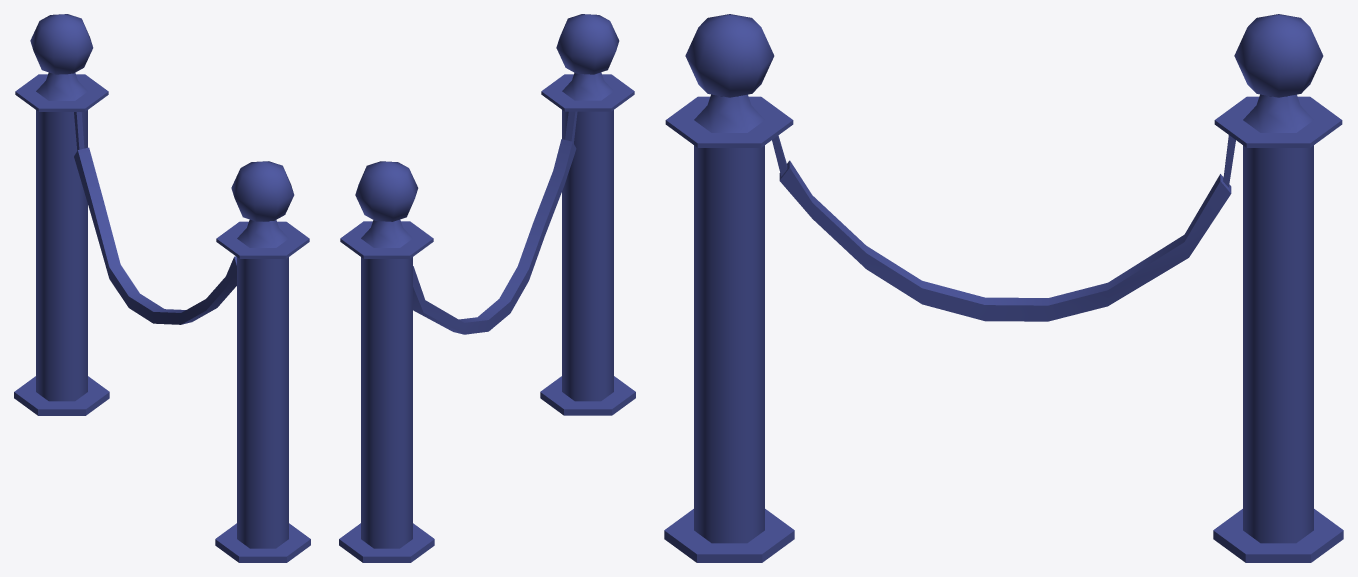
The model's file is SM_Stanchion_01.fbx.
3 renders of one model, left to right at view 1: azimuth 30°, elevation 25°; view 2: azimuth 150°, elevation 25°; view 3: azimuth 270°, elevation 25°, orthographic. The views are drawn at different scales.
Parts seen in each view (by area): view 1: SM_Stanchion_01; view 2: SM_Stanchion_01; view 3: SM_Stanchion_01.
Part boxes in pixels (left/top/right/bottom): SM_Stanchion_01: left=14, top=14, right=310, bottom=562; SM_Stanchion_01: left=339, top=14, right=635, bottom=562; SM_Stanchion_01: left=664, top=14, right=1343, bottom=562.
Bounding box in the file's own units: 70.81 × 362 × 425.
